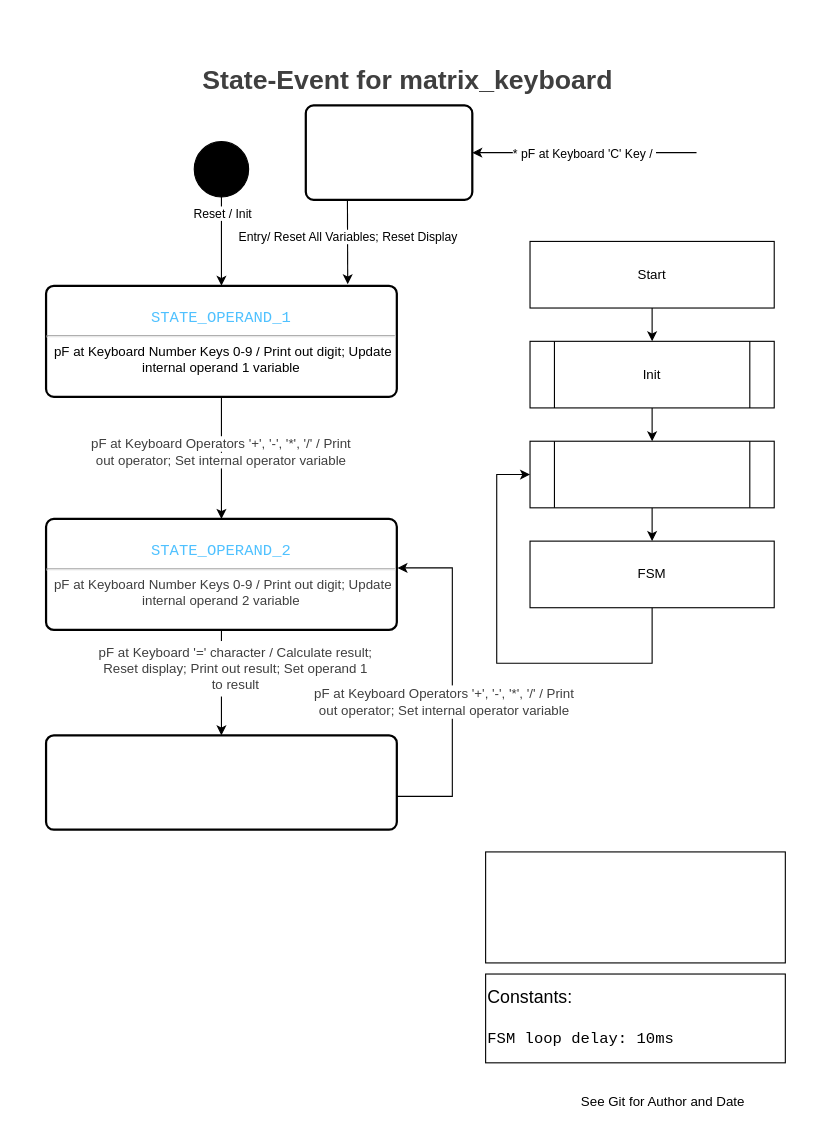
The diagram is 815 pixels wide and 1148 high, and some of its shapes have lost their labels. The shapes that lost their labels are listed below. From the top down, each one's centre as x and y in pixels, then its label:
pixel 388 152: STATE_CLEAR
pixel 651 474: Read Keyboard
pixel 220 782: STATE_OPERATOR
pixel 635 907: Legend pF = positive Flank * = From All States (except itself)
